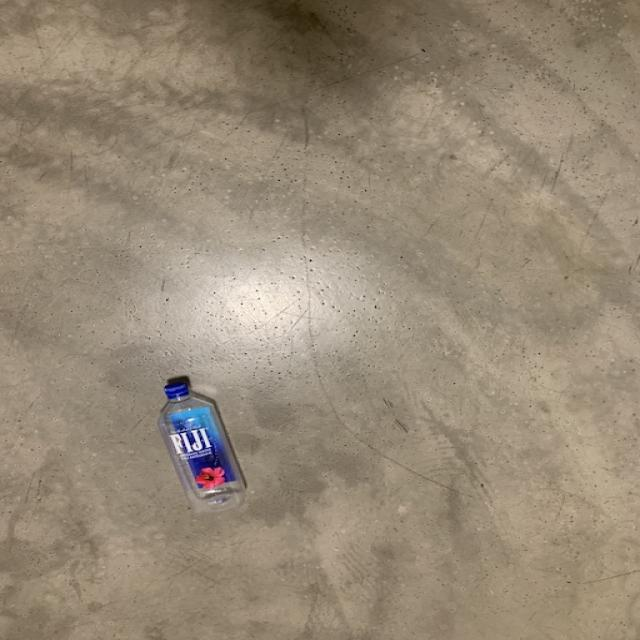Waste: (158, 378, 245, 514)
